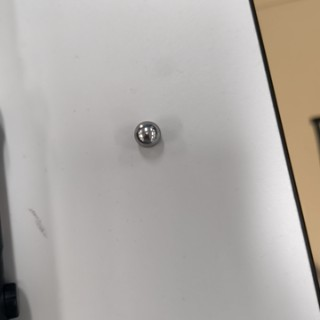ironball: (122, 112, 167, 153)
